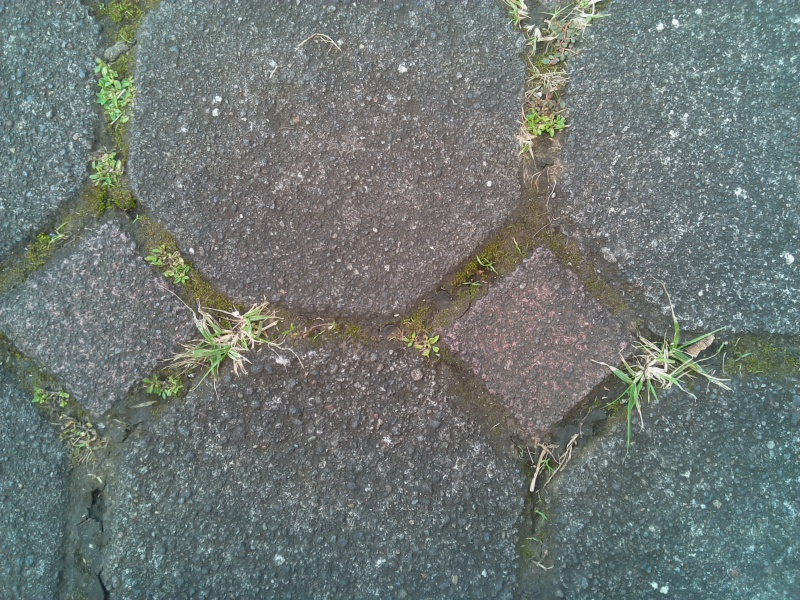Weed: (597, 316, 711, 417), (174, 302, 285, 370), (85, 49, 146, 133), (500, 2, 600, 53), (504, 107, 574, 163), (52, 415, 113, 475), (139, 236, 196, 290), (78, 144, 131, 196), (386, 323, 447, 368), (135, 365, 194, 409), (518, 63, 579, 102), (24, 378, 75, 411)
